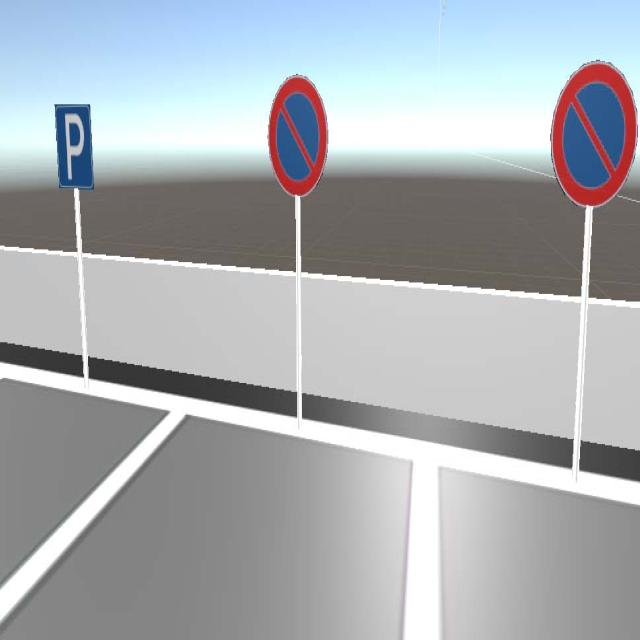park: (56, 106, 94, 190)
parkyasak: (550, 61, 638, 207), (267, 75, 328, 196)
